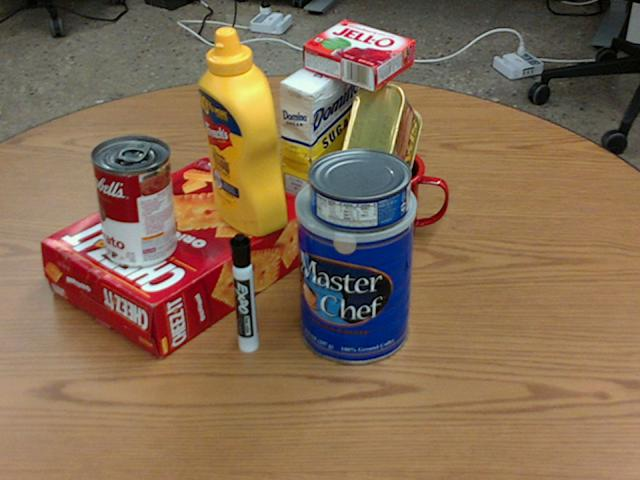cracker_box: (43, 160, 315, 359)
gelatin_box: (300, 20, 414, 90)
large_marker: (231, 233, 259, 352)
master_chef_can: (292, 168, 414, 362)
mug: (338, 144, 450, 248)
mustard_bottle: (197, 26, 286, 235)
potted_meat_can: (339, 82, 420, 200)
sugar_box: (280, 51, 360, 238)
tomato_soup_can: (91, 135, 176, 267)
tuna_fish_can: (306, 147, 411, 230)
